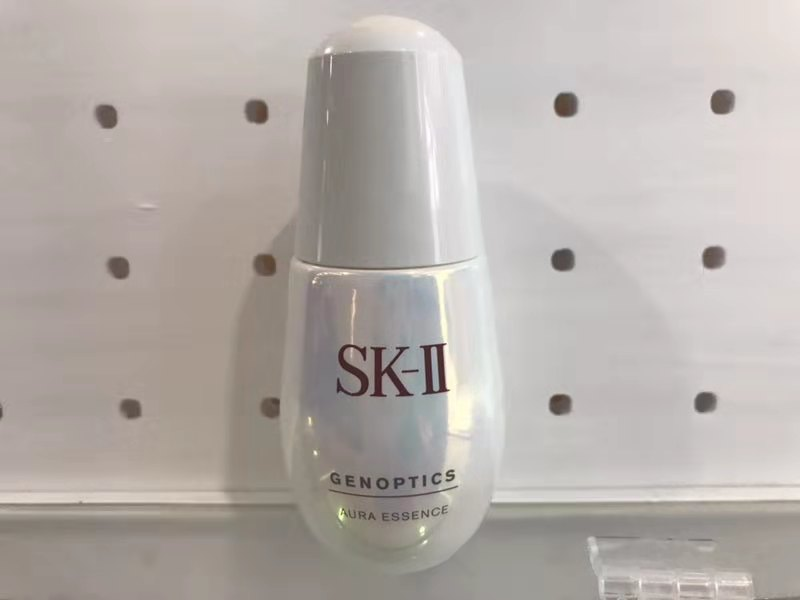sk2: (277, 6, 507, 591)
